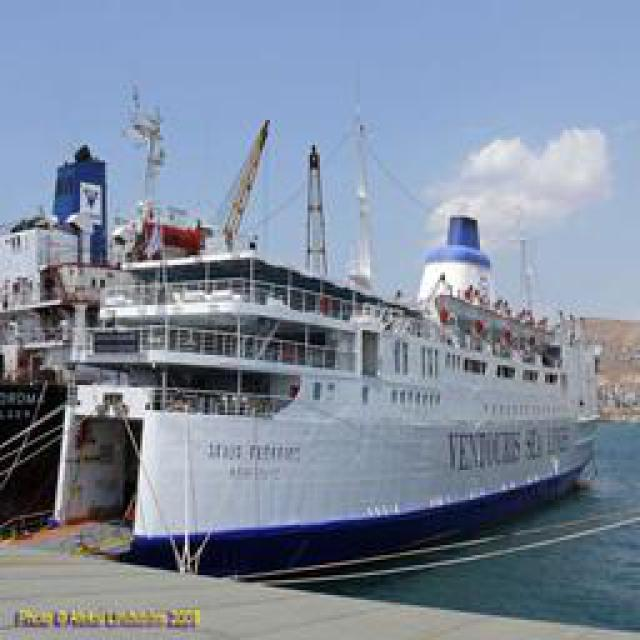Ship: (61, 69, 606, 589)
